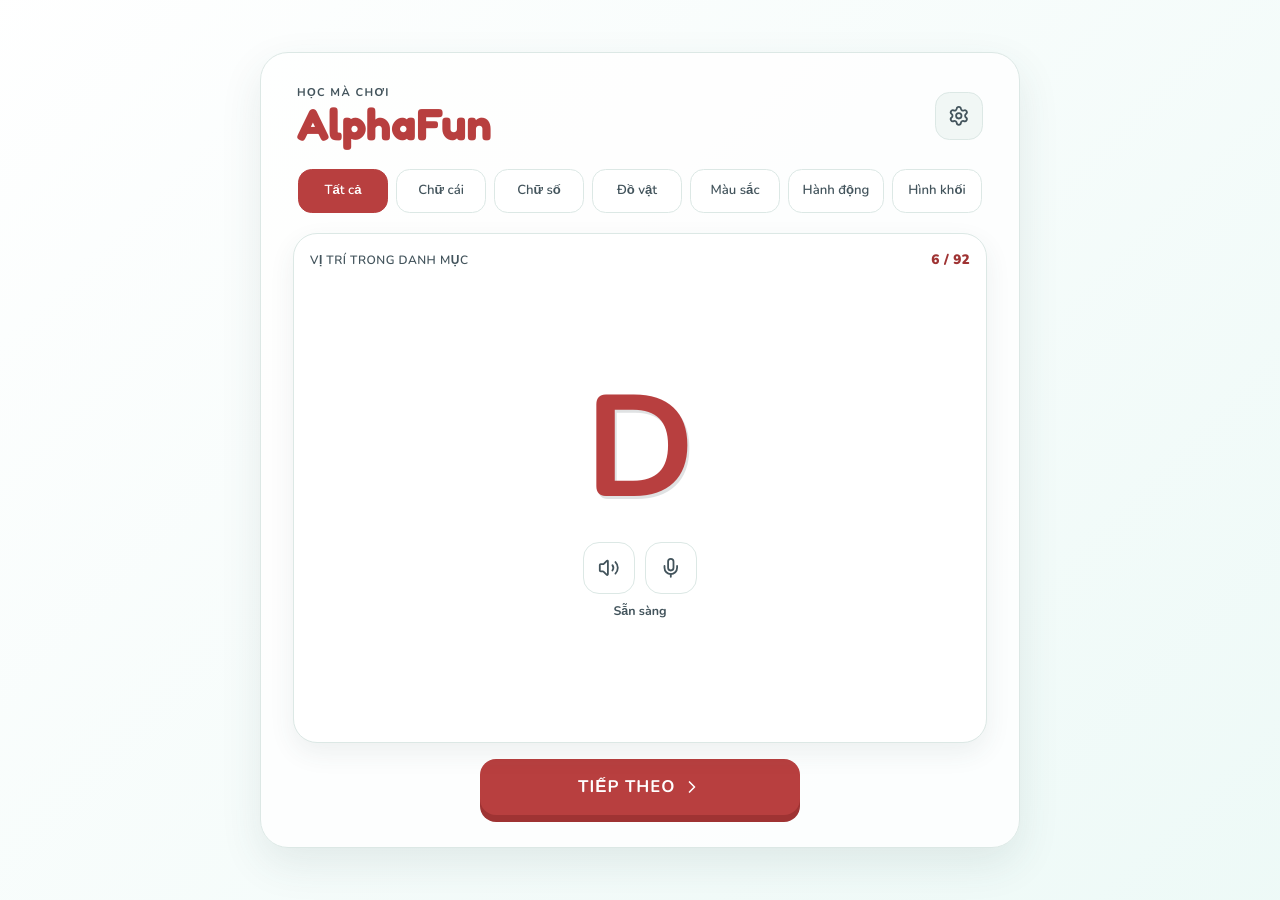
Scenario: App Component Extended Tests › resets sequential index when category changes
// Switch to sequential mode
Click the button named "Mở cài đặt". click: click(959, 116)
box: [935, 92, 983, 140]
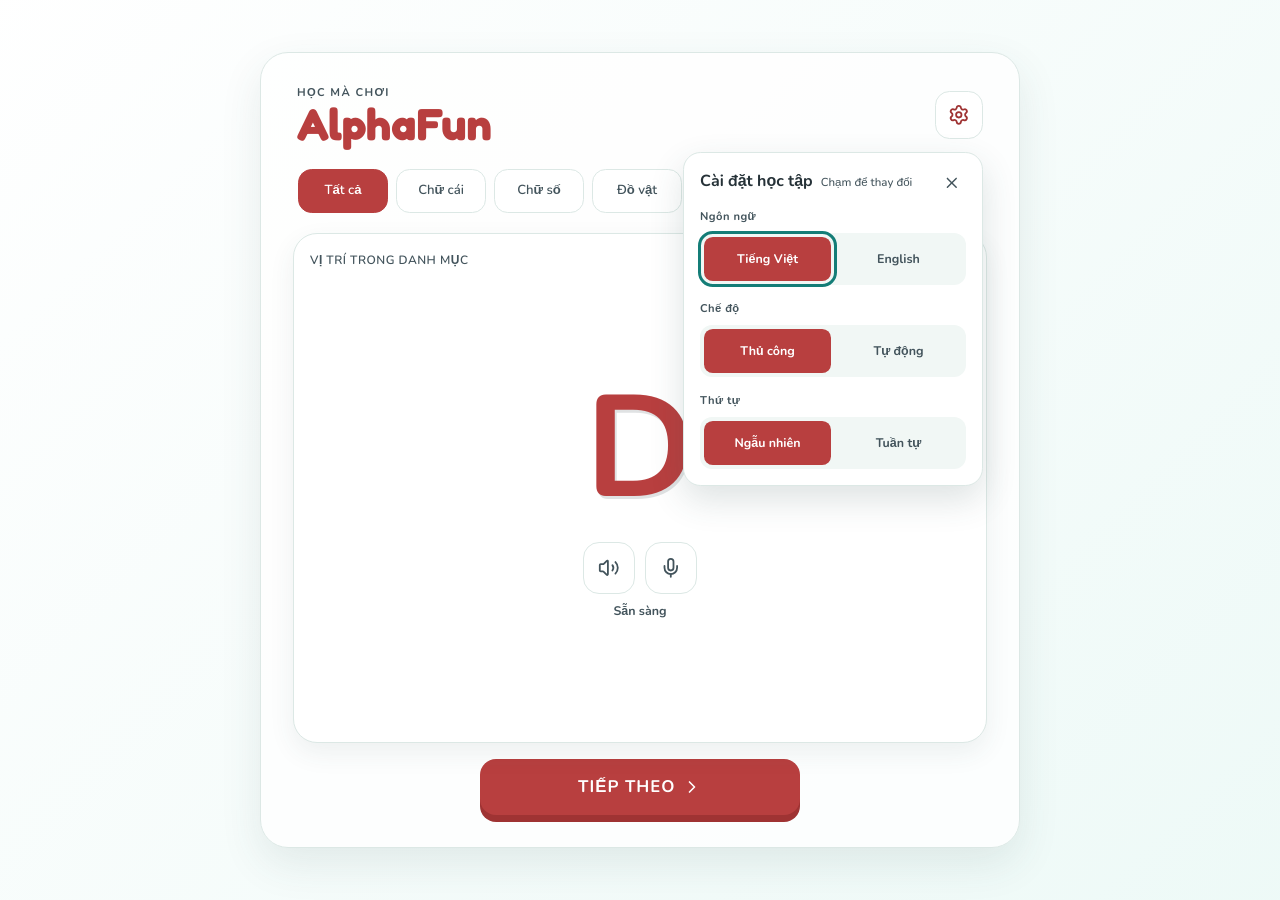
Click the button "Tuần tự". click: click(898, 443)
box: [835, 421, 962, 465]
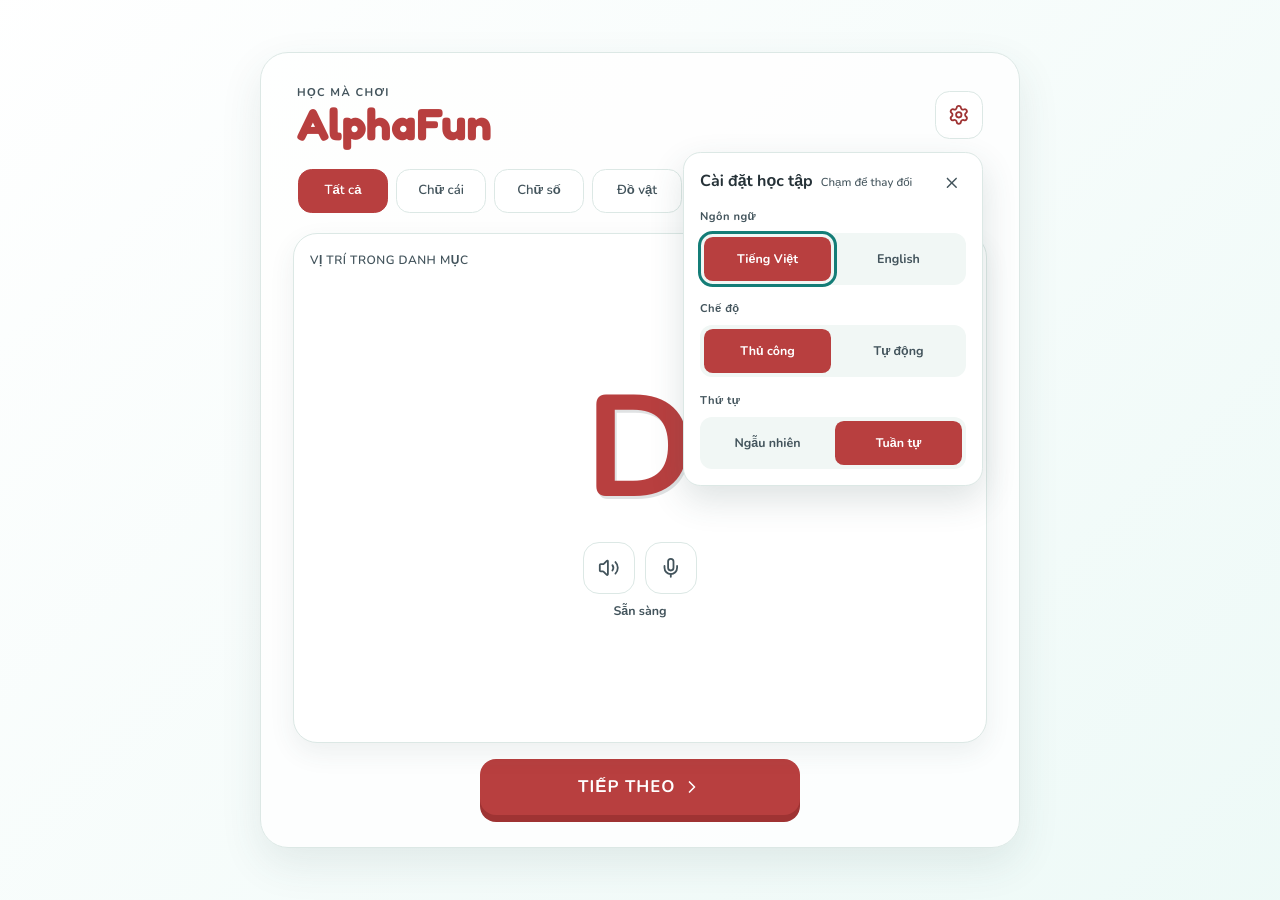
Press Escape
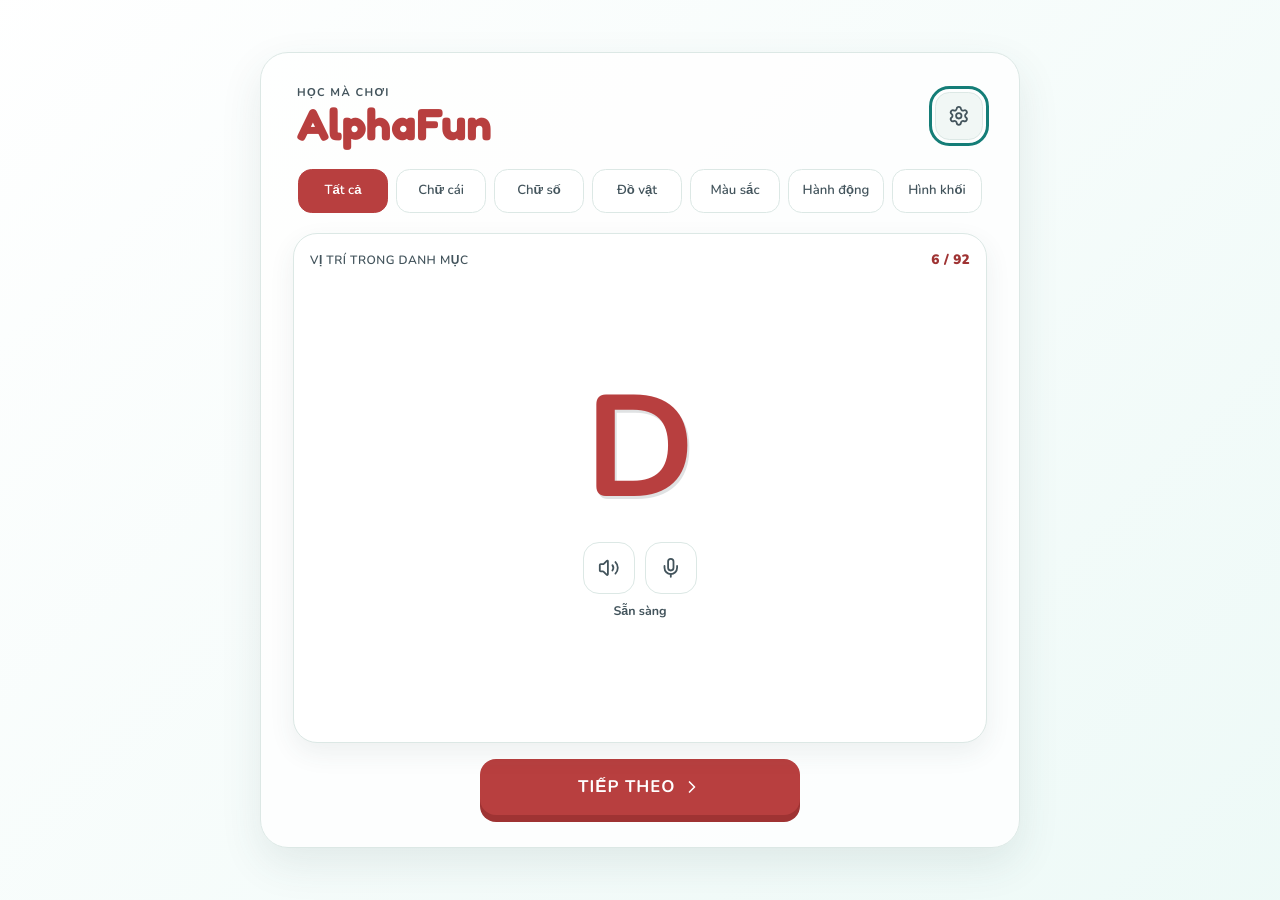
// Click next a few times
Click the button "TIẾP THEO". click: click(640, 787)
box: [480, 759, 800, 815]
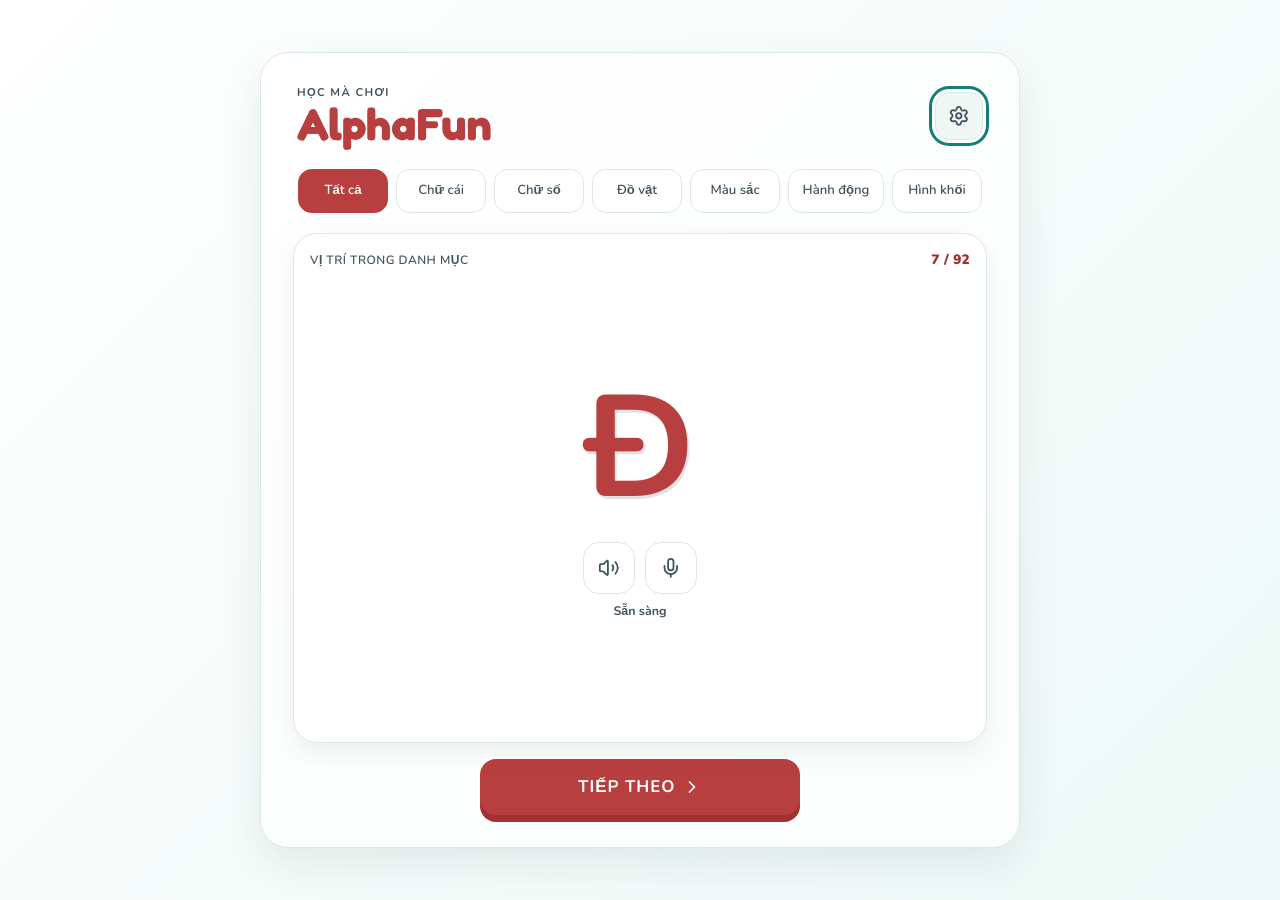
Click the button "TIẾP THEO". click: click(640, 787)
box: [480, 759, 800, 815]
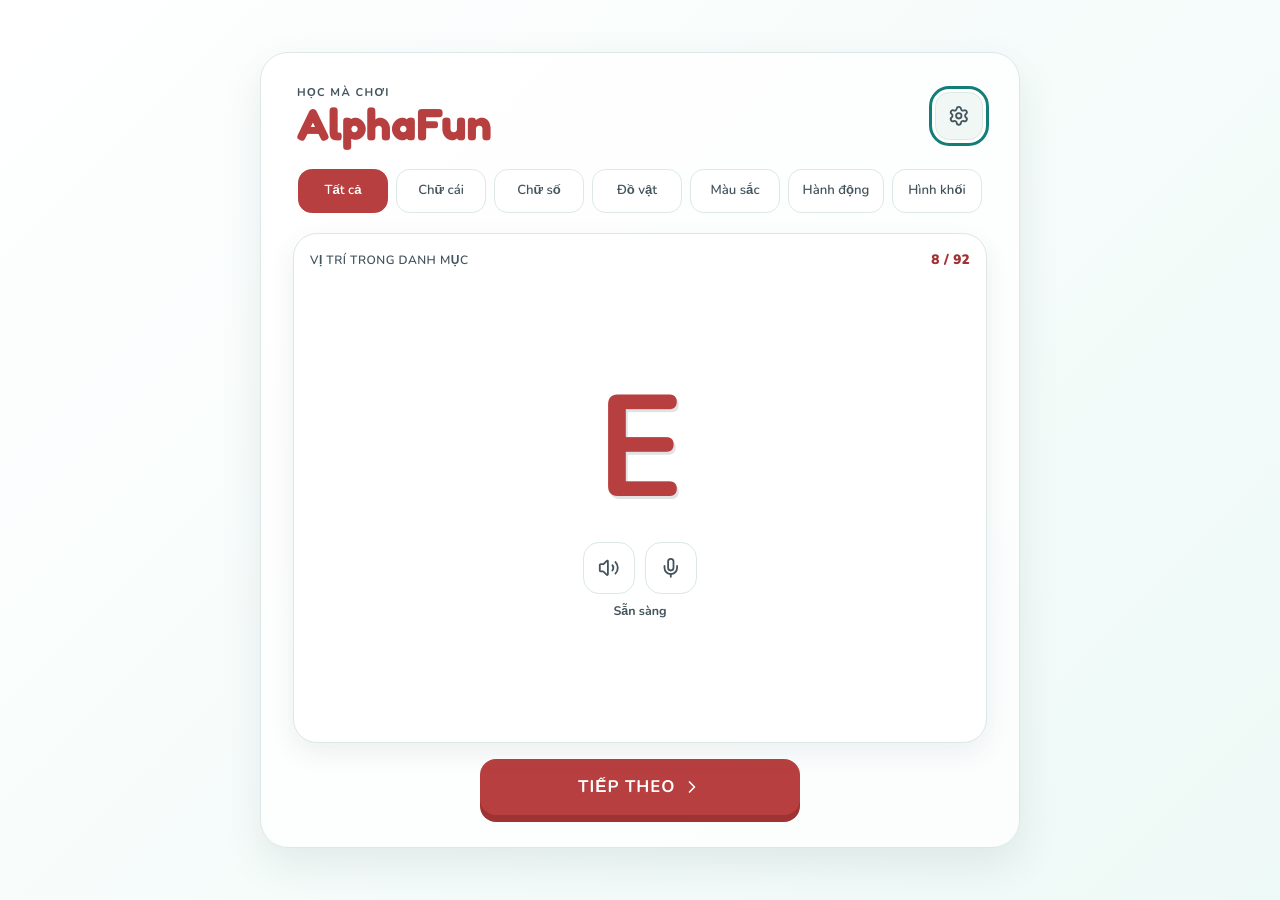
// Change category
Click the button "Chữ số". click: click(539, 191)
box: [494, 169, 584, 213]
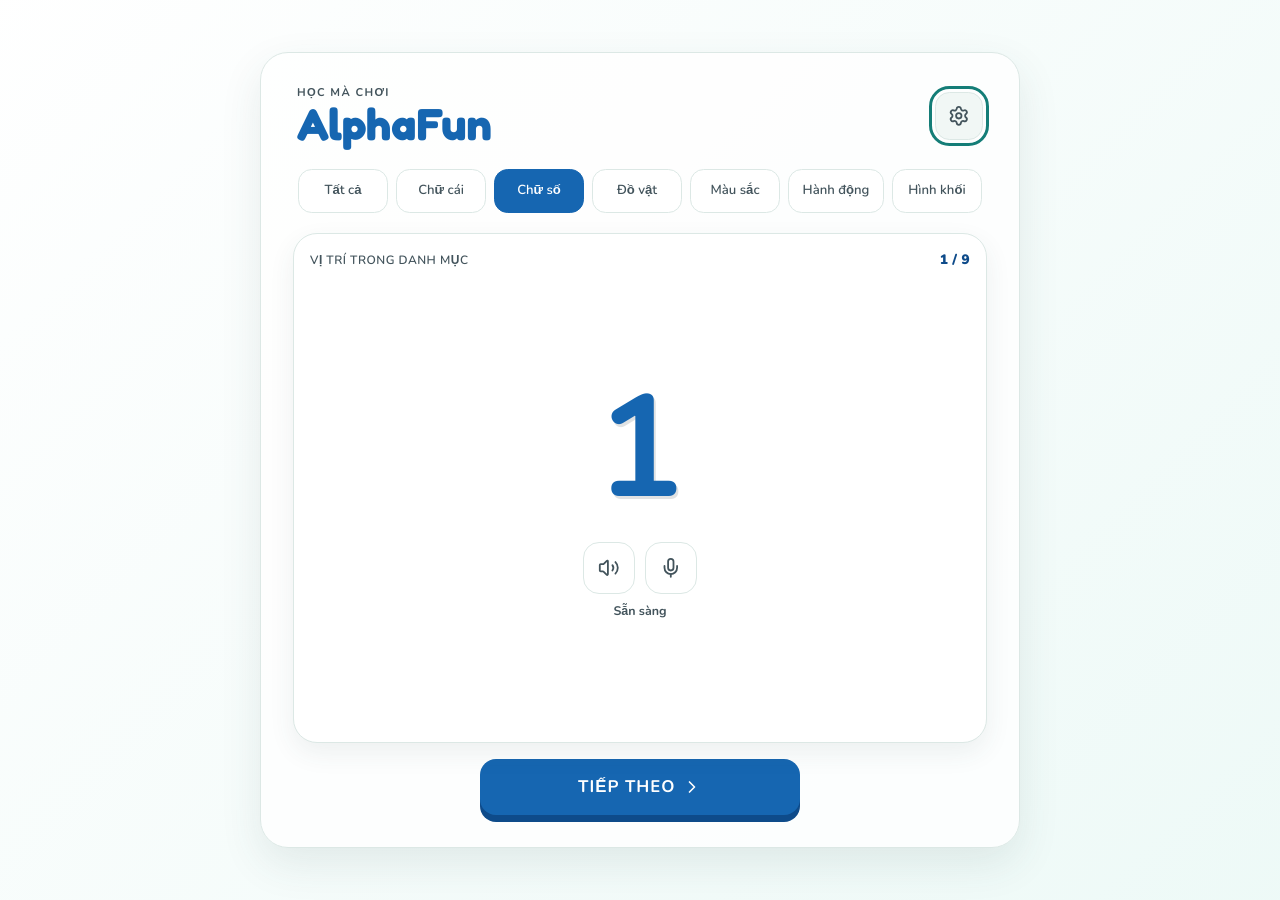
Expected: the text with test id "progress" reads "1 / 9", [940, 250, 970, 269]
Expected: the element with test id "display-item" shows "1", [597, 350, 683, 547]
